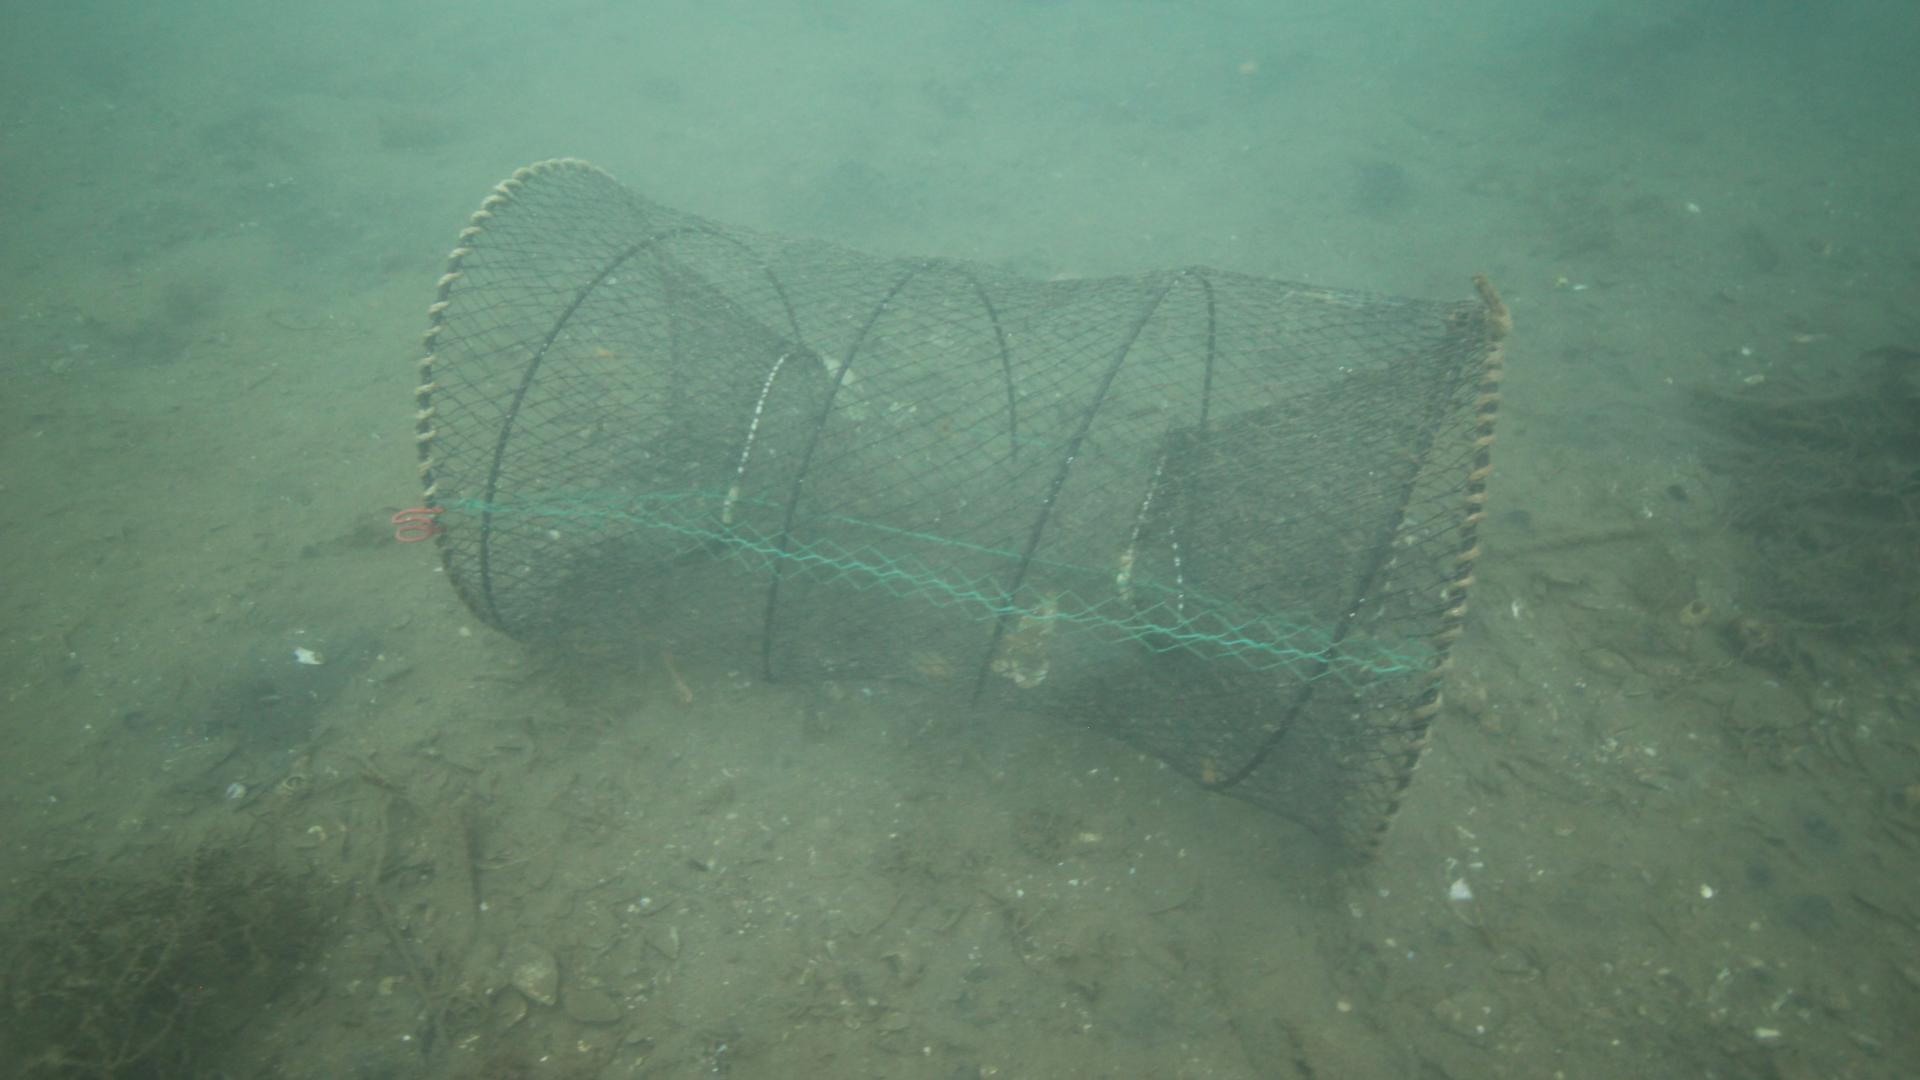spring fish trap: (417, 156, 1513, 877)
